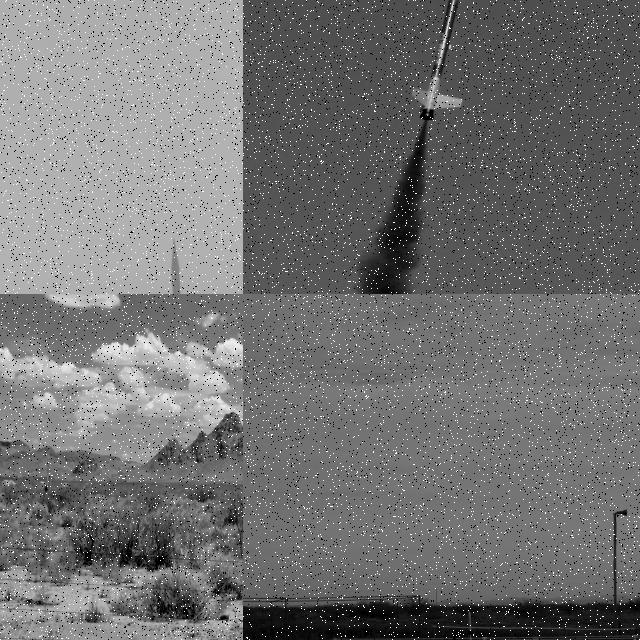Rocket: (411, 0, 468, 123), (161, 237, 193, 294), (467, 610, 474, 636), (450, 632, 457, 640)
